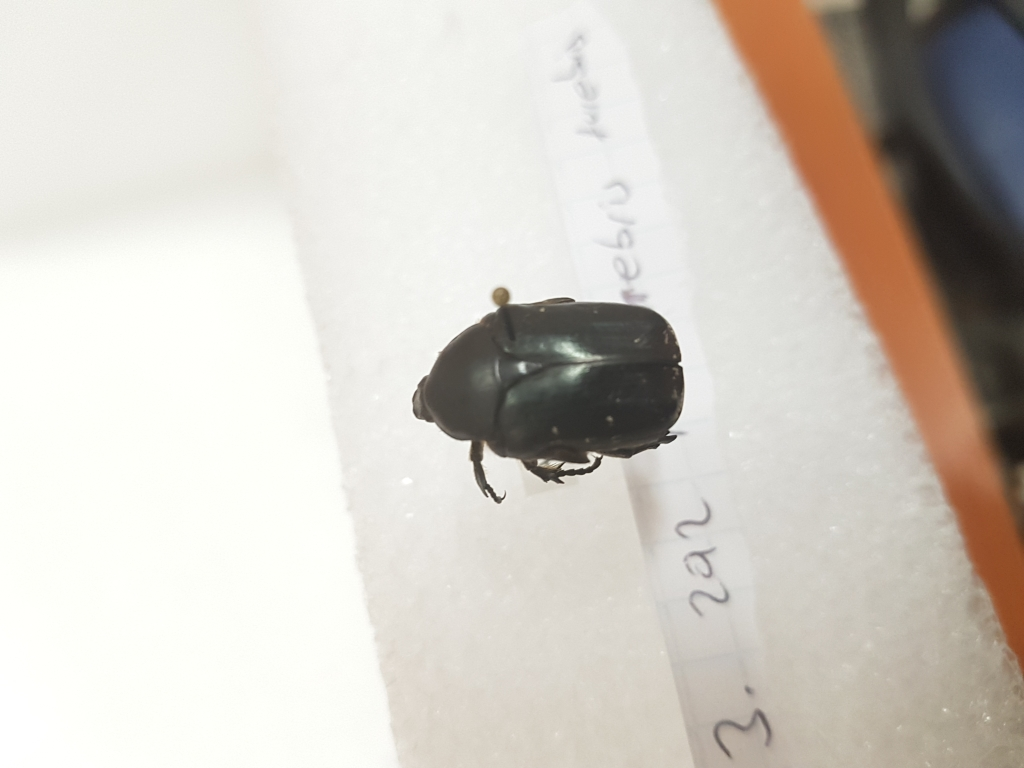Protaetia_funebris: (404, 289, 691, 505)
